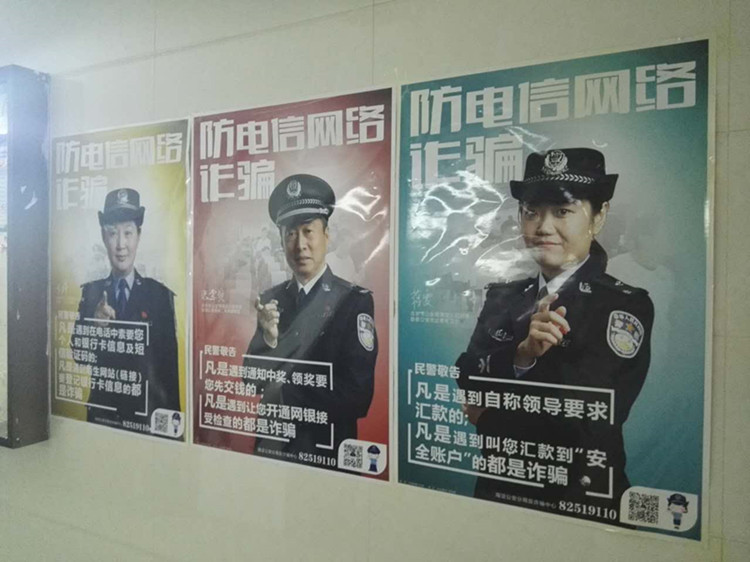bill: (398, 38, 706, 540), (191, 88, 391, 479), (51, 119, 187, 440)
